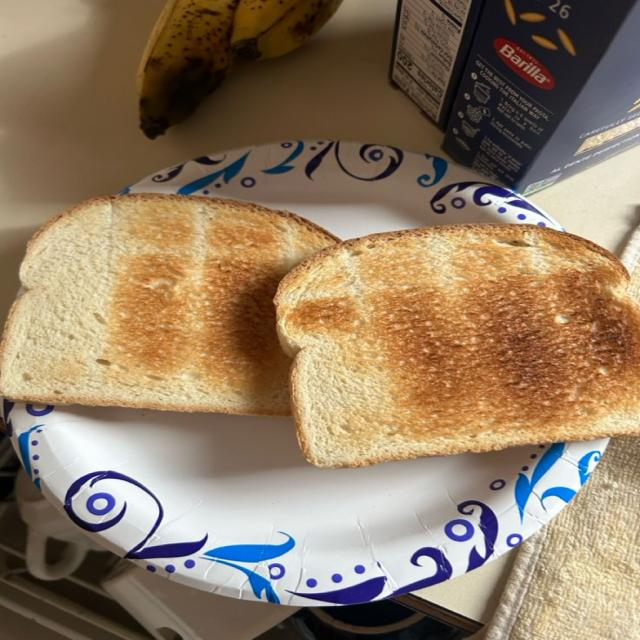toast bread: (275, 224, 639, 467), (0, 193, 339, 415)
